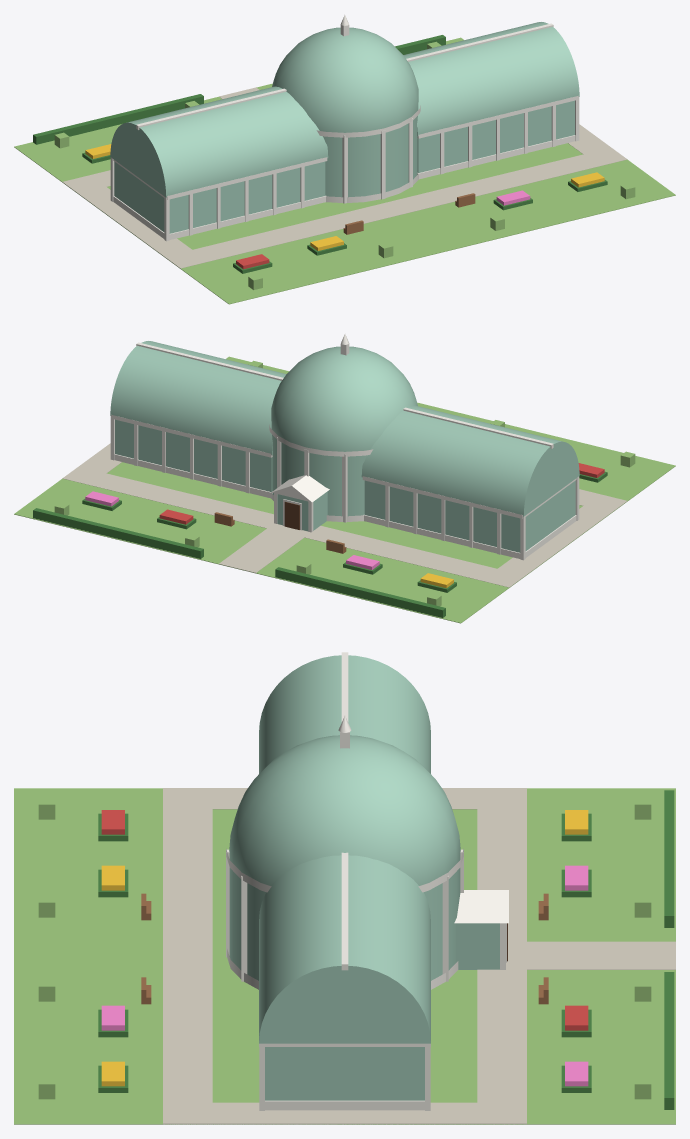
The model's file is conservatory.glb.
3 views of the same model, one above another, from view 1: azimuth 30°, elevation 25°; view 2: azimuth 150°, elevation 25°; view 3: azimuth 270°, elevation 25° (orthographic). The views are drawn at different scales.
Visible parts, largest first — view 1: lawn, wing_roof (×2), wing (×2), dome, path (×3), drum, wing_base (×2), hedge (×2), wing_cornice (×2), wing_ridge (×2), drum_cornice, drum_base; view 2: wing_roof (×2), lawn, wing (×2), path (×4), dome, hedge (×2), drum, wing_base (×2), wing_cornice (×2), wing_ridge (×2), porch_gable, porch (+1 smaller); view 3: lawn, path (×5), wing_roof (×2), dome, wing, drum, hedge (×2), porch, wing_base, porch_gable, wing_ridge, drum_cornice.
Boxes of the visible parts, <box> form: lawn: <box>14,37,675,304</box>; wing_roof (×2): <box>110,22,579,197</box>; wing (×2): <box>114,100,574,233</box>; dome: <box>272,27,418,132</box>; path (×3): <box>62,124,627,268</box>; drum: <box>323,109,418,197</box>; wing_base (×2): <box>113,135,575,239</box>; hedge (×2): <box>33,35,445,144</box>; wing_cornice (×2): <box>113,96,578,199</box>; wing_ridge (×2): <box>136,23,553,129</box>; drum_cornice: <box>316,105,420,137</box>; drum_base: <box>326,174,418,202</box>; wing_roof (×2): <box>110,341,579,516</box>; lawn: <box>14,356,675,623</box>; wing (×2): <box>115,419,575,552</box>; path (×4): <box>62,443,626,587</box>; dome: <box>271,346,417,451</box>; hedge (×2): <box>33,508,445,617</box>; drum: <box>271,428,366,516</box>; wing_base (×2): <box>114,454,576,558</box>; wing_cornice (×2): <box>111,415,576,518</box>; wing_ridge (×2): <box>136,342,553,448</box>; porch_gable: <box>271,475,329,502</box>; porch: <box>277,491,327,531</box>; lawn: <box>14,788,675,1124</box>; path (×5): <box>163,788,675,1124</box>; wing_roof (×2): <box>259,655,430,1043</box>; dome: <box>229,735,460,885</box>; wing: <box>265,1047,424,1100</box>; drum: <box>229,853,460,980</box>; hedge (×2): <box>664,790,674,1109</box>; porch: <box>456,923,499,969</box>; wing_base: <box>265,1100,424,1110</box>; porch_gable: <box>454,890,508,923</box>; wing_ridge: <box>341,852,348,970</box>; drum_cornice: <box>226,848,463,892</box>.
Bounding box in the file's own units: 48 × 16.1 × 40.
